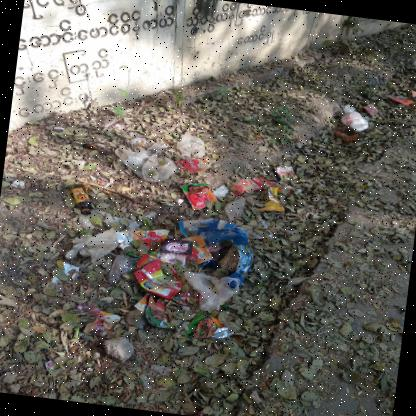Crisp packet: (133, 259, 182, 300), (135, 254, 180, 281)
Other plastic: (133, 290, 199, 330), (184, 314, 235, 339), (119, 228, 169, 251), (179, 183, 217, 210), (181, 235, 212, 266), (230, 176, 278, 196), (160, 238, 193, 267), (90, 310, 120, 337), (257, 186, 285, 212), (50, 262, 79, 286), (173, 157, 209, 173), (96, 180, 130, 193), (264, 185, 295, 197), (199, 251, 219, 269), (274, 166, 294, 179), (390, 95, 415, 104), (361, 104, 378, 116), (44, 360, 60, 371), (105, 120, 125, 128), (114, 230, 125, 243), (127, 219, 139, 230), (144, 210, 157, 219), (407, 91, 416, 97)
Other plastic container: (69, 184, 91, 213)
Plastic film: (178, 218, 253, 288), (114, 137, 177, 182), (184, 271, 240, 311), (65, 227, 118, 262), (105, 255, 139, 284), (340, 104, 368, 130), (176, 134, 204, 159), (78, 208, 113, 228), (77, 303, 105, 321), (224, 198, 244, 223), (248, 218, 272, 238)
Unlabeled litter: (212, 184, 231, 198)
